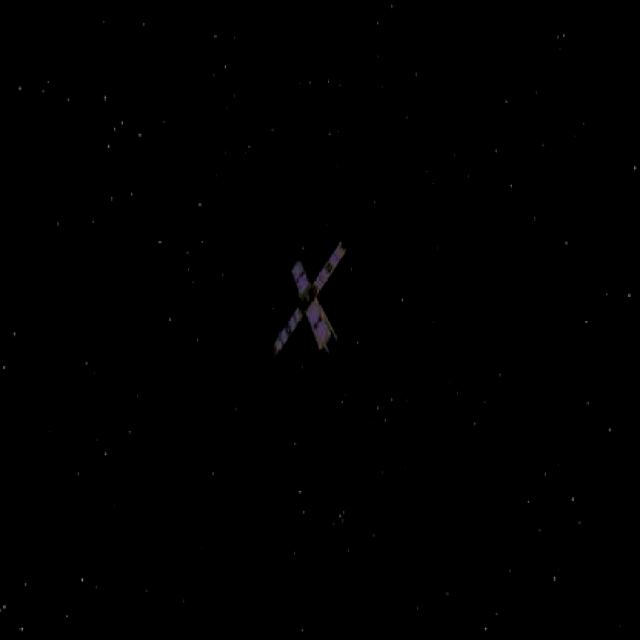satellite: (263, 231, 350, 369)
